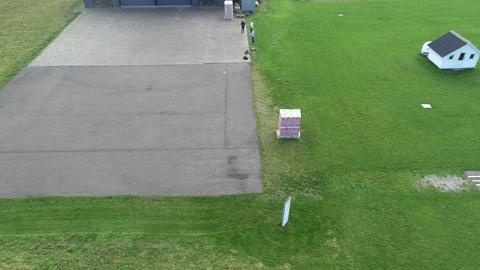RockwoolPallet: (224, 1, 234, 21)
